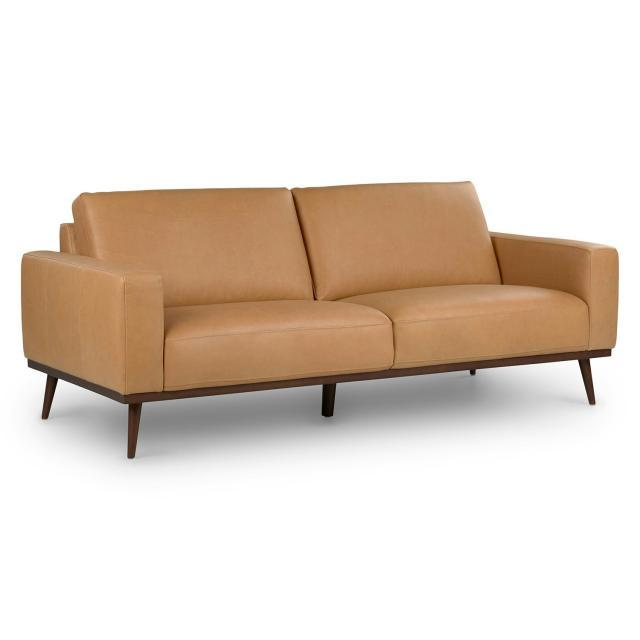sofa: (19, 179, 620, 459)
